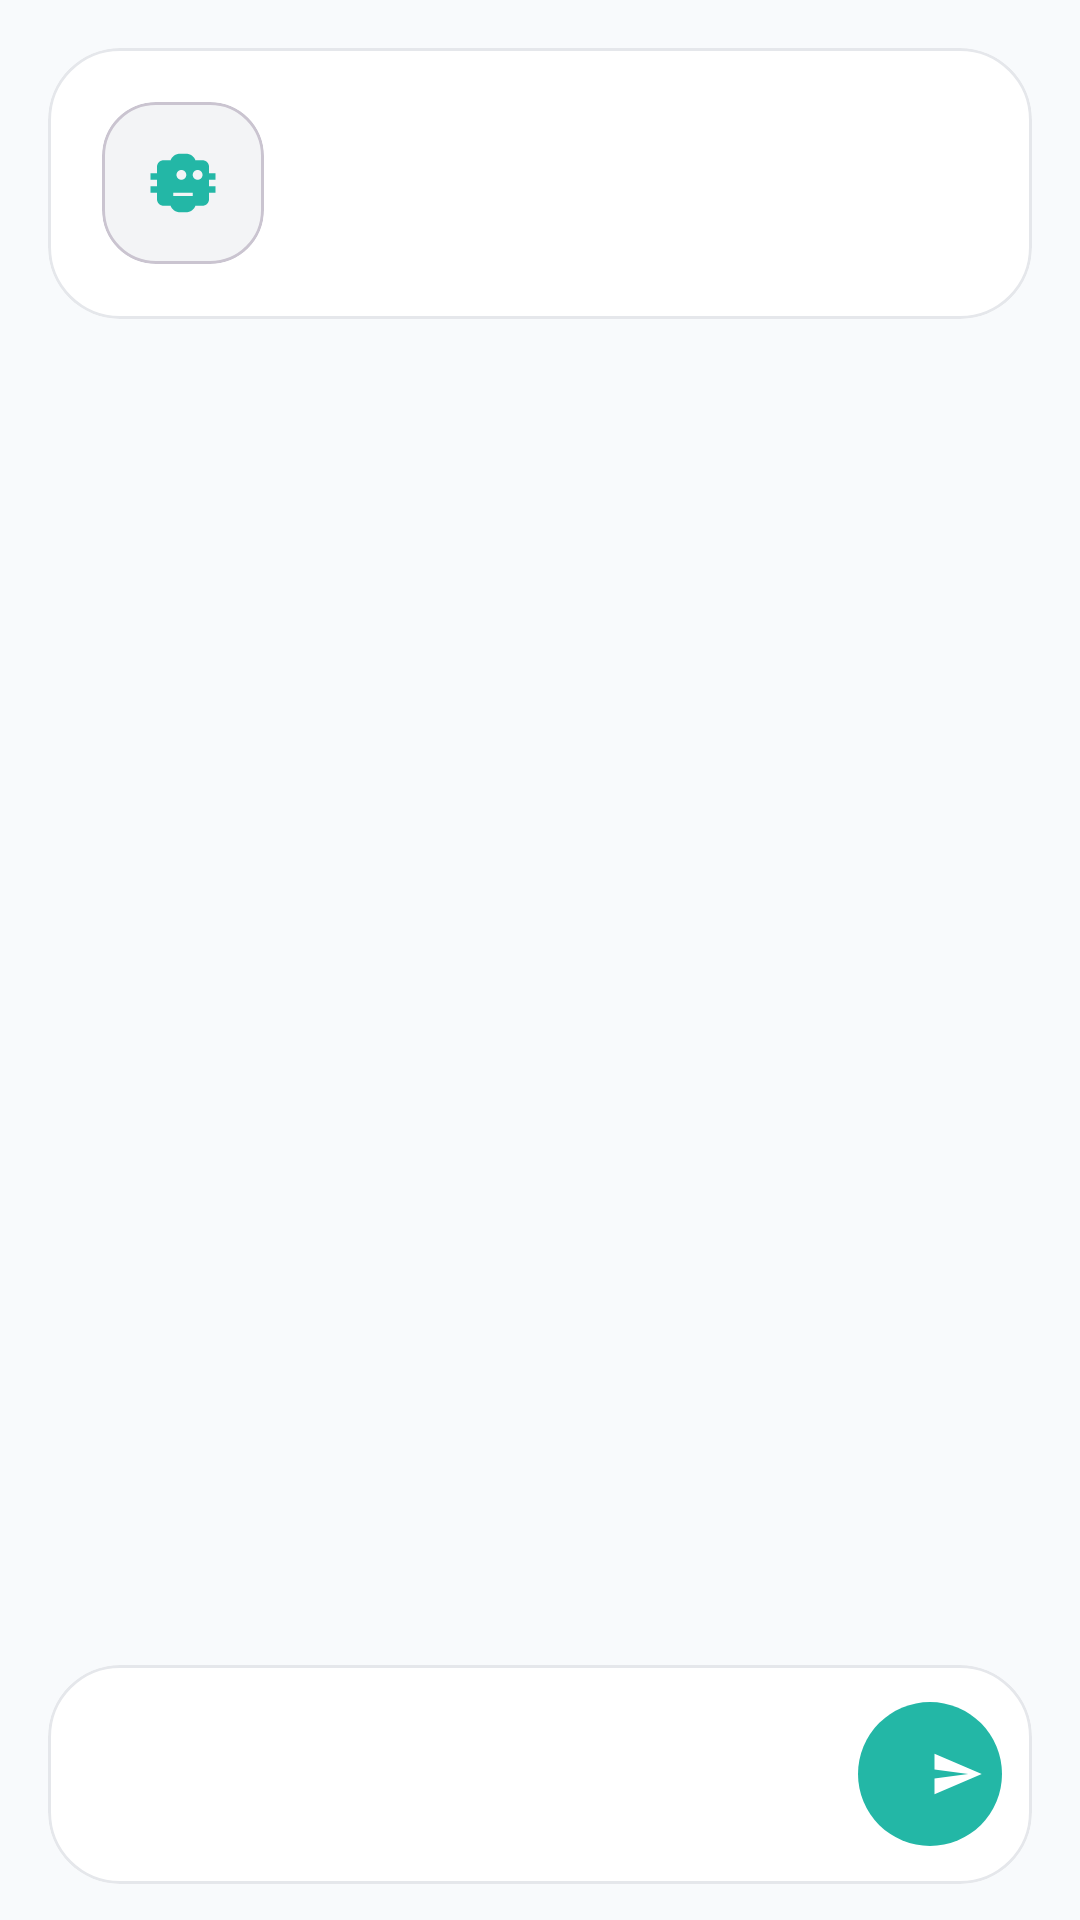

Icon bounding boxes for this 1080×1920 phone screenshot, format (x1, y1, x2, y2):
send: (858, 1702, 1002, 1846)
